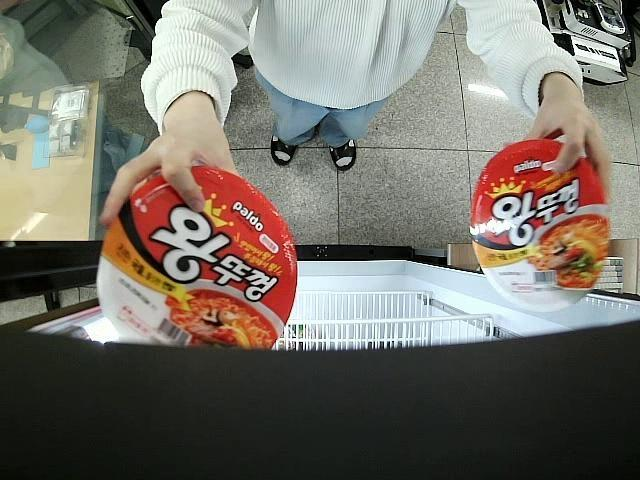10_wangTtukkeong: (94, 170, 298, 356), (472, 138, 611, 313)
